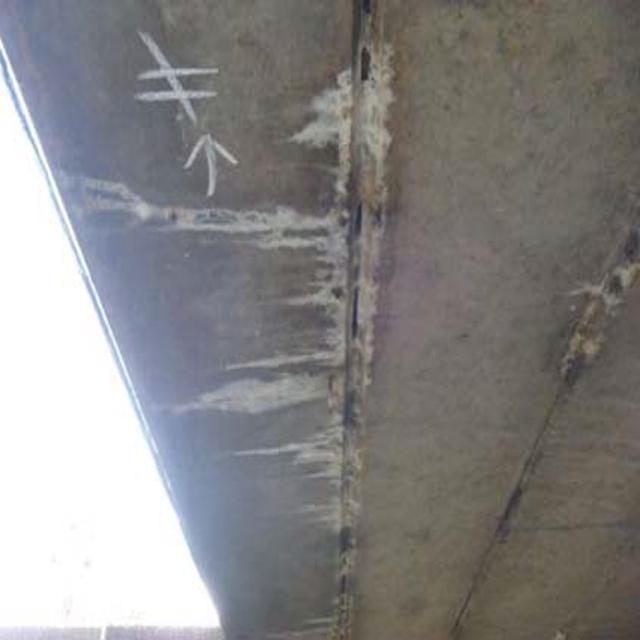freelime: (306, 33, 391, 573), (60, 150, 293, 241)
